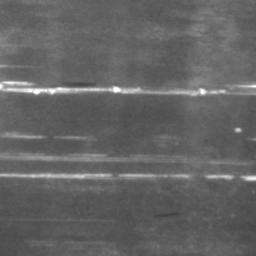Bright scratch: (0, 82, 256, 99), (0, 174, 113, 179), (119, 173, 192, 180), (206, 174, 234, 182), (239, 175, 256, 182)
